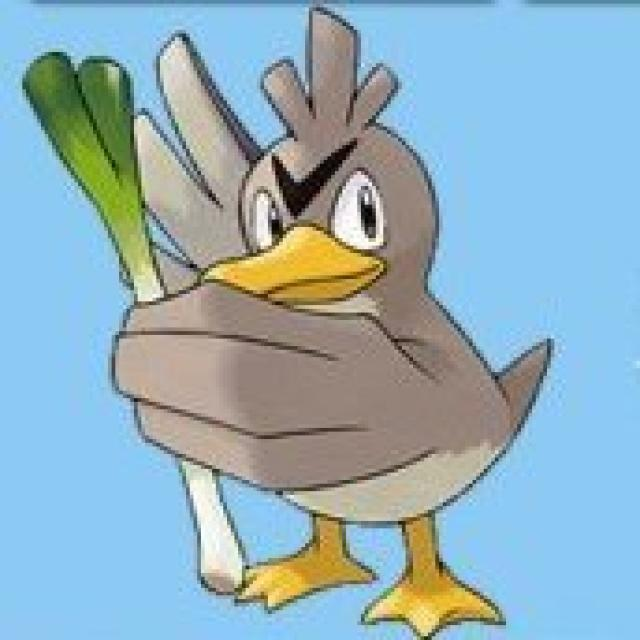Farfetchd: (118, 20, 525, 604)
